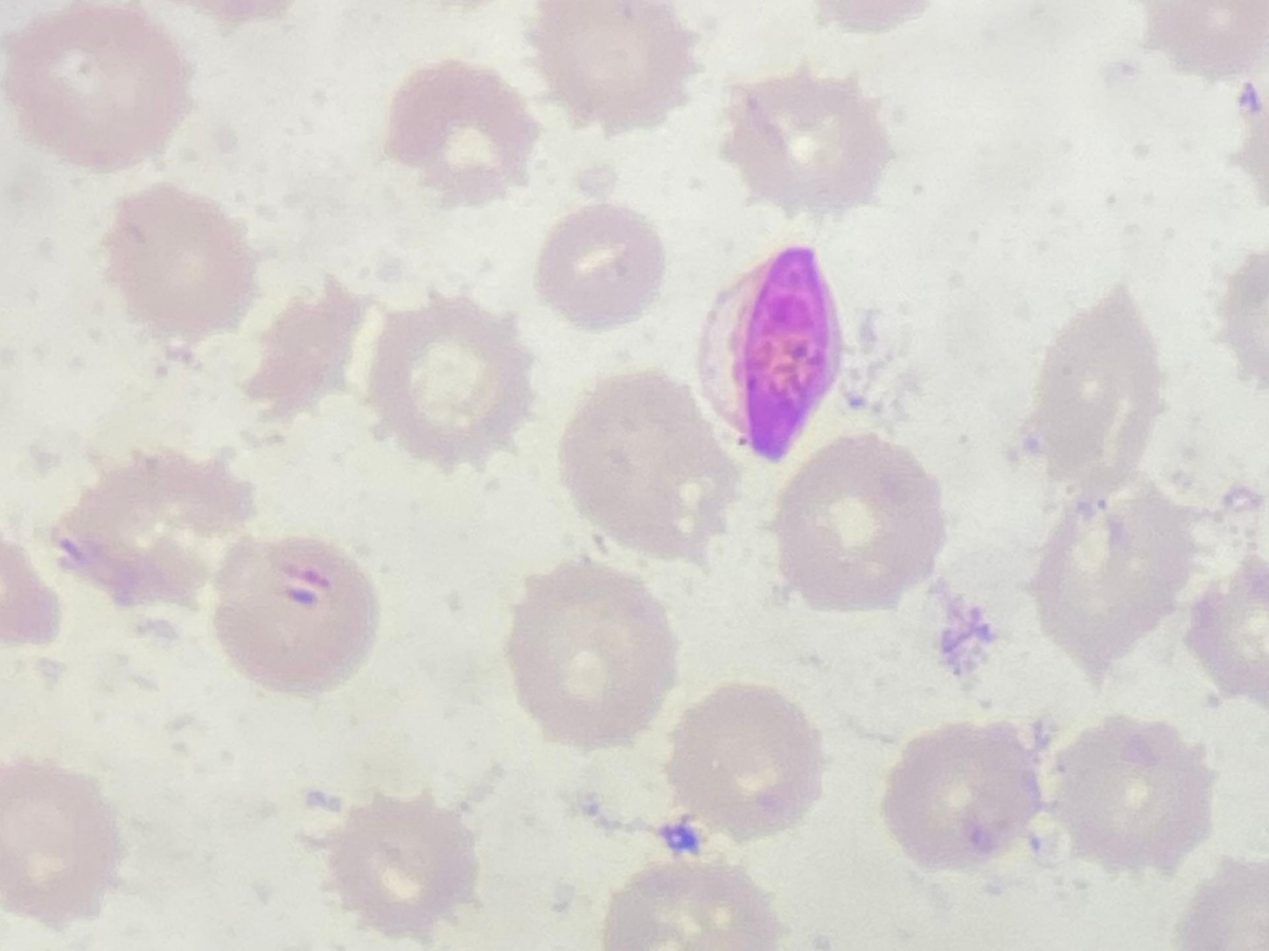Infected: (696, 247, 845, 459)
Uninfected: (557, 373, 737, 565), (1040, 477, 1198, 674), (509, 562, 674, 750), (776, 435, 950, 612), (62, 455, 260, 609), (13, 1, 188, 168), (1035, 285, 1163, 508), (368, 303, 532, 468), (212, 532, 379, 693), (1049, 719, 1215, 880), (720, 67, 897, 215), (328, 796, 494, 946), (881, 725, 1047, 874), (672, 684, 824, 841), (106, 188, 251, 337), (392, 65, 538, 205), (538, 199, 671, 327), (256, 283, 360, 436)
